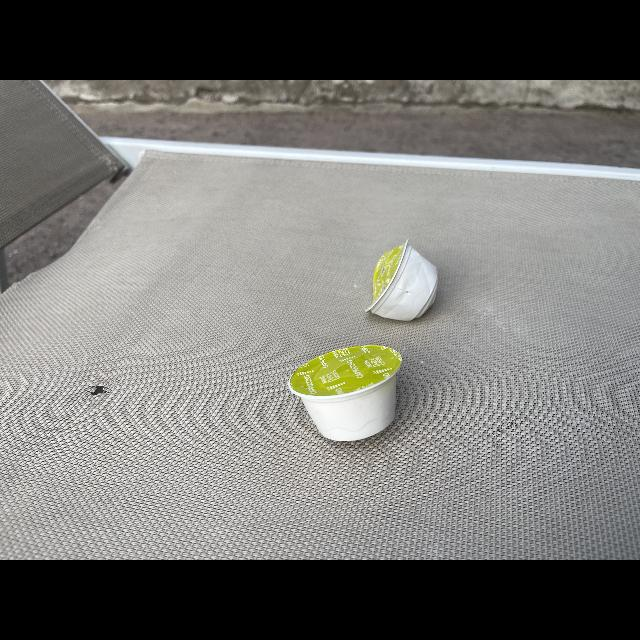damaged_capsule: (360, 235, 446, 327)
intact_capsule: (278, 339, 408, 447)
